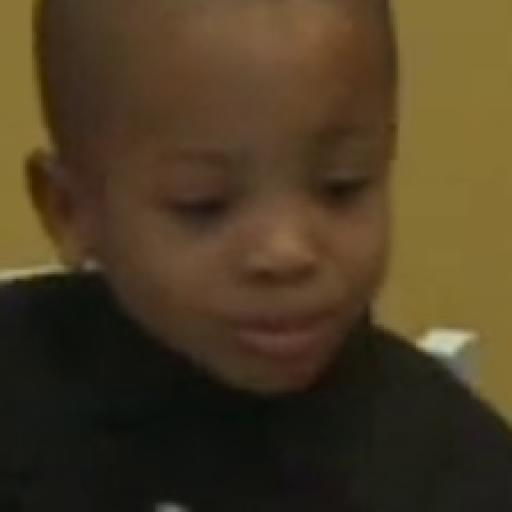Autism: (18, 0, 448, 448)
